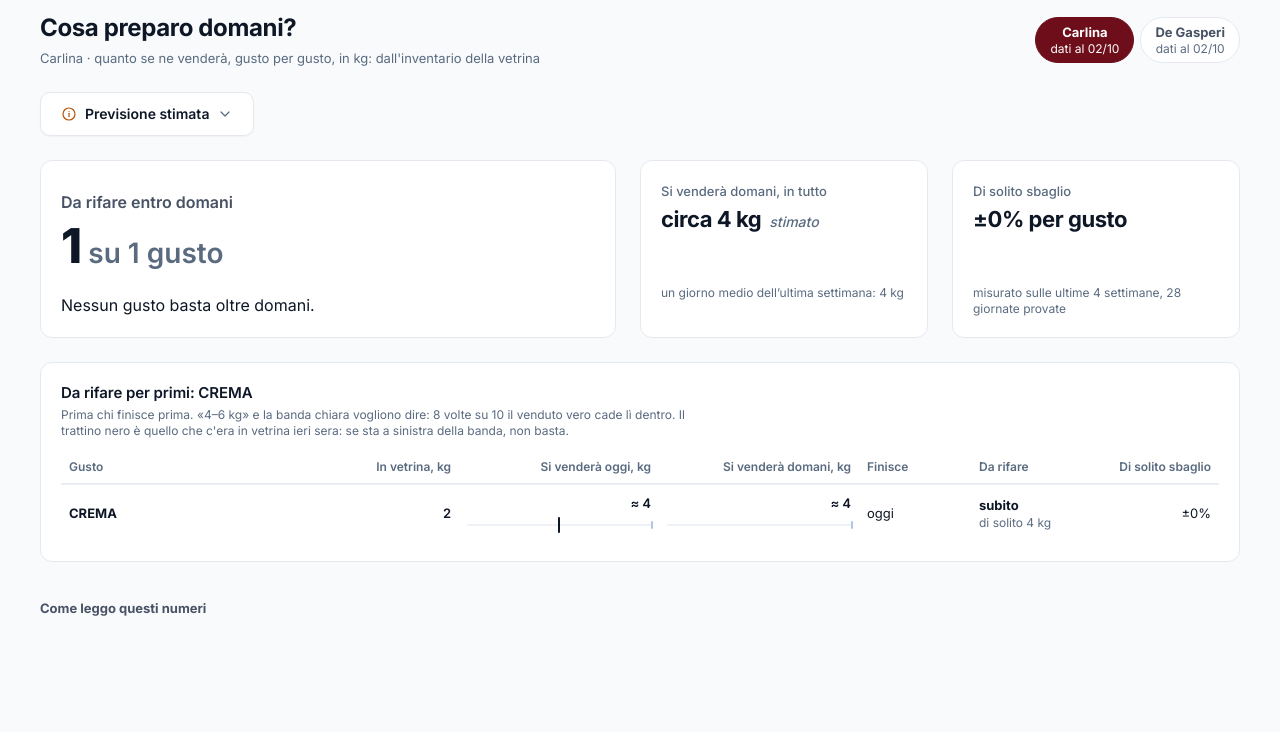
Test: quello che c’è intorno › in «Tutte le sedi» si sceglie la sede dentro la pagina
Check: the table is shown, box [61,451,1219,541]
Click the button "De Gasperi dati al 02/10" at coordinates (1190, 40), box [1140,17,1240,63]
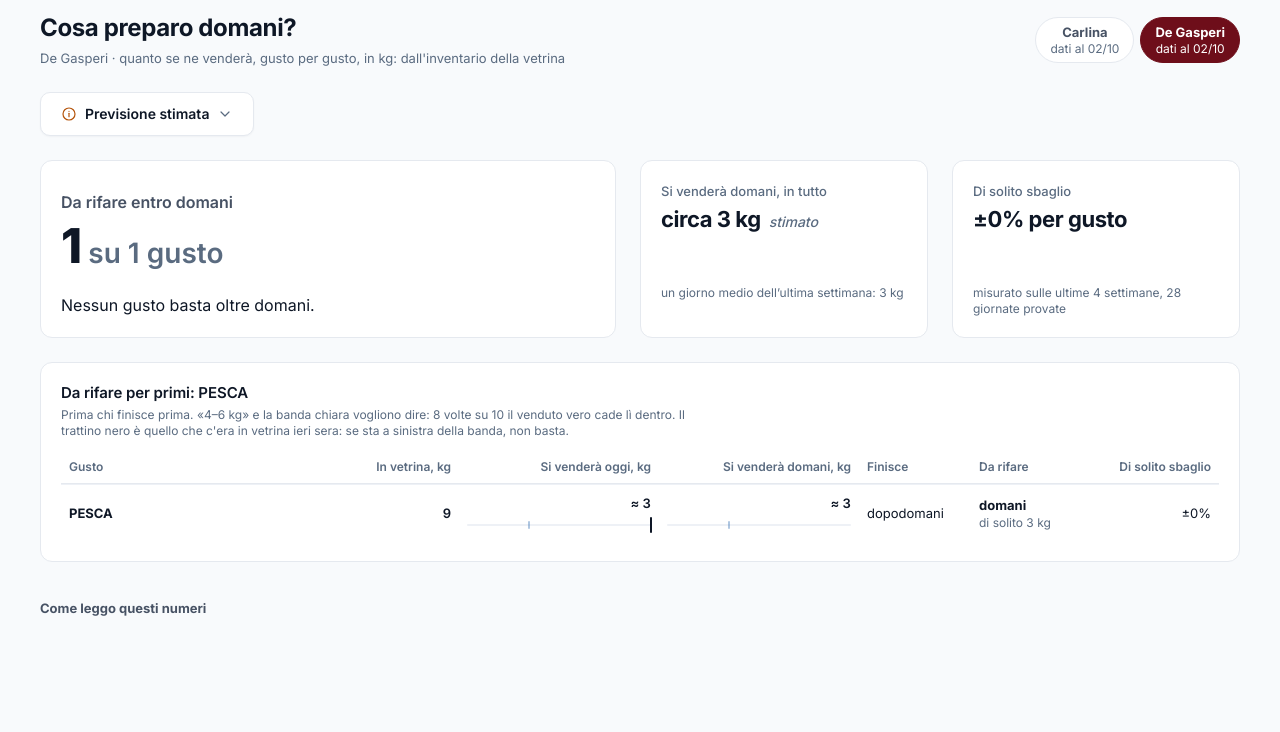
Check: the text "PESCA" is shown, box [69,505,113,521]
Check: the text "De Gasperi ·" is shown, box [40,50,565,66]
